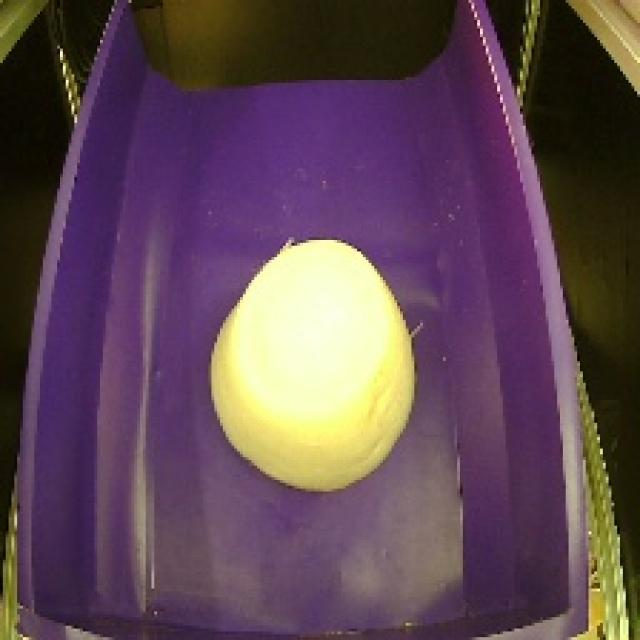white_radish: (204, 237, 435, 496)
